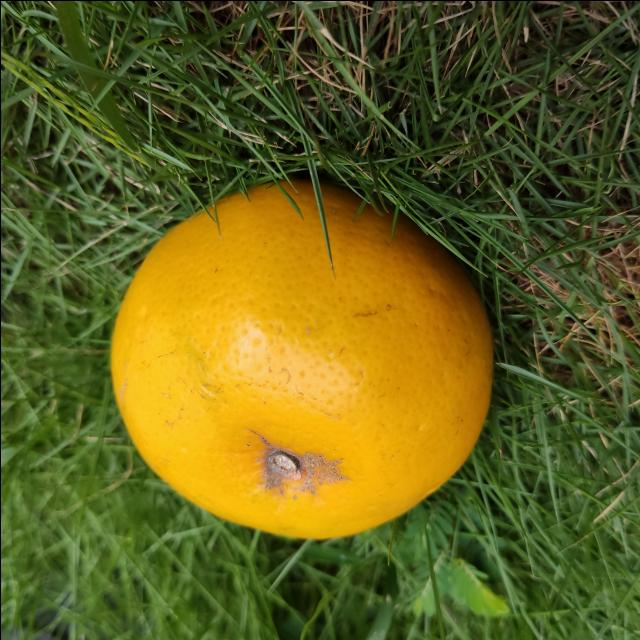orange: (107, 175, 499, 543)
